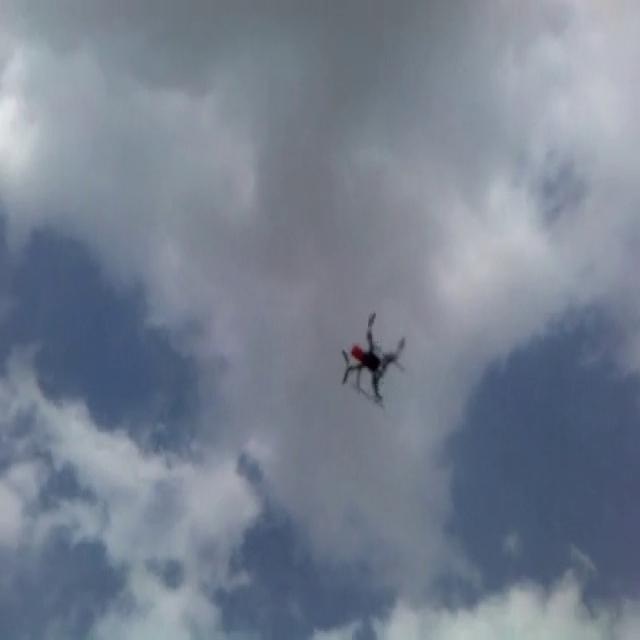drone: (338, 309, 405, 407)
